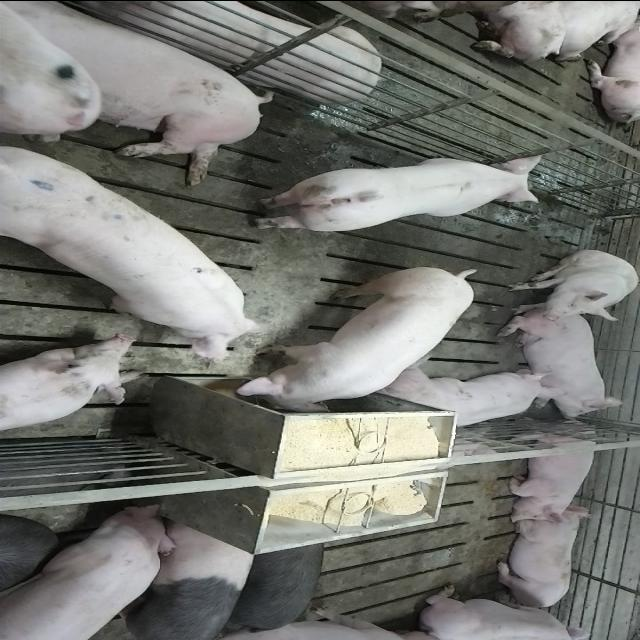Feeding: (228, 270, 478, 419)
Lateral_lying: (4, 3, 278, 187), (47, 1, 382, 102)
Sitting: (503, 249, 638, 319)
Standing: (0, 135, 273, 369), (245, 150, 548, 232), (0, 502, 179, 638), (86, 516, 260, 638), (215, 539, 326, 635)
Sternal_lying: (0, 336, 140, 436), (502, 314, 627, 422), (381, 368, 561, 430), (415, 584, 602, 638), (491, 508, 588, 610), (502, 424, 602, 522)
